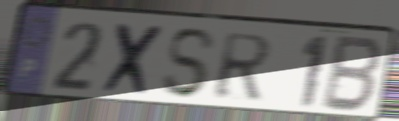1: (299, 34, 330, 111)
2: (49, 20, 105, 92)
B: (318, 33, 386, 116)
R: (211, 31, 275, 102)
S: (159, 27, 219, 101)
X: (99, 21, 169, 100)
